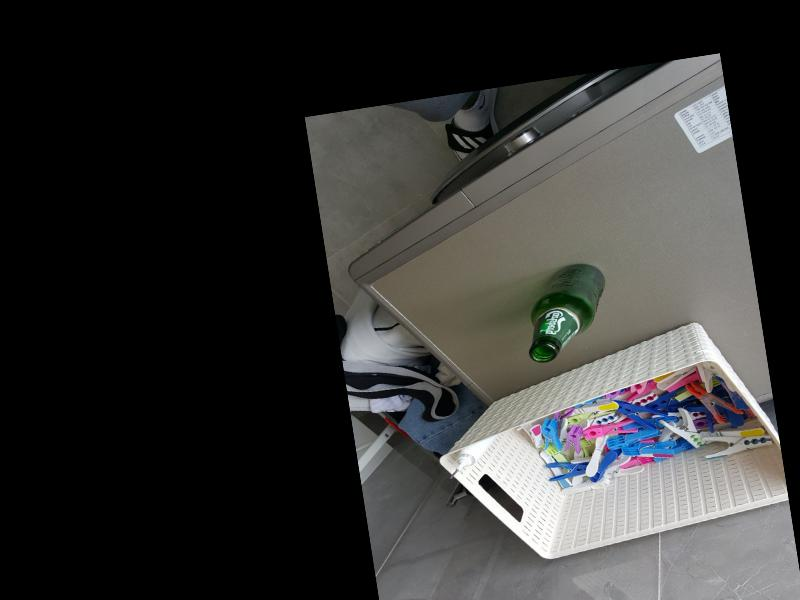Beer: (515, 259, 613, 362)
